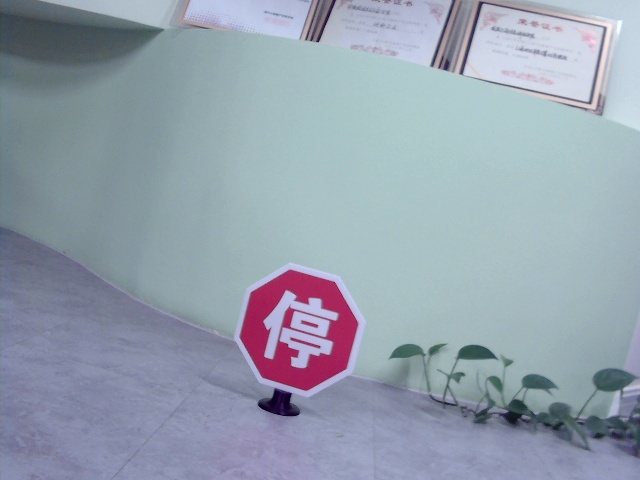stop: (261, 290, 335, 370)
